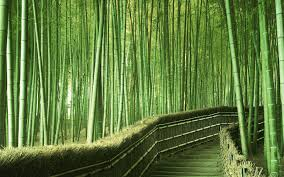bamboo: (5, 1, 110, 143), (116, 1, 225, 101), (247, 17, 280, 164)
